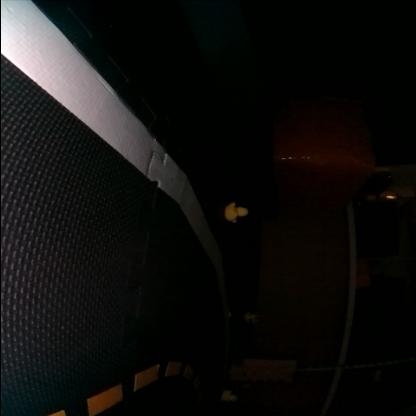Duckie: (224, 202, 247, 223), (222, 390, 236, 402), (245, 315, 255, 321)
